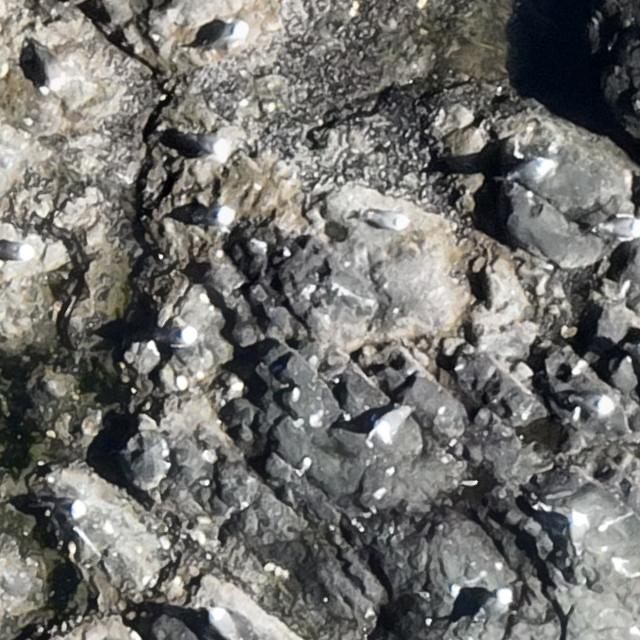umineko: (30, 47, 67, 92), (473, 590, 511, 628), (504, 157, 551, 184), (212, 21, 250, 54), (377, 405, 412, 438), (47, 498, 91, 520), (159, 325, 198, 349), (602, 215, 640, 236), (190, 133, 226, 155), (568, 511, 586, 555), (574, 396, 614, 415), (1, 240, 33, 262), (366, 213, 404, 230), (198, 208, 235, 223)
